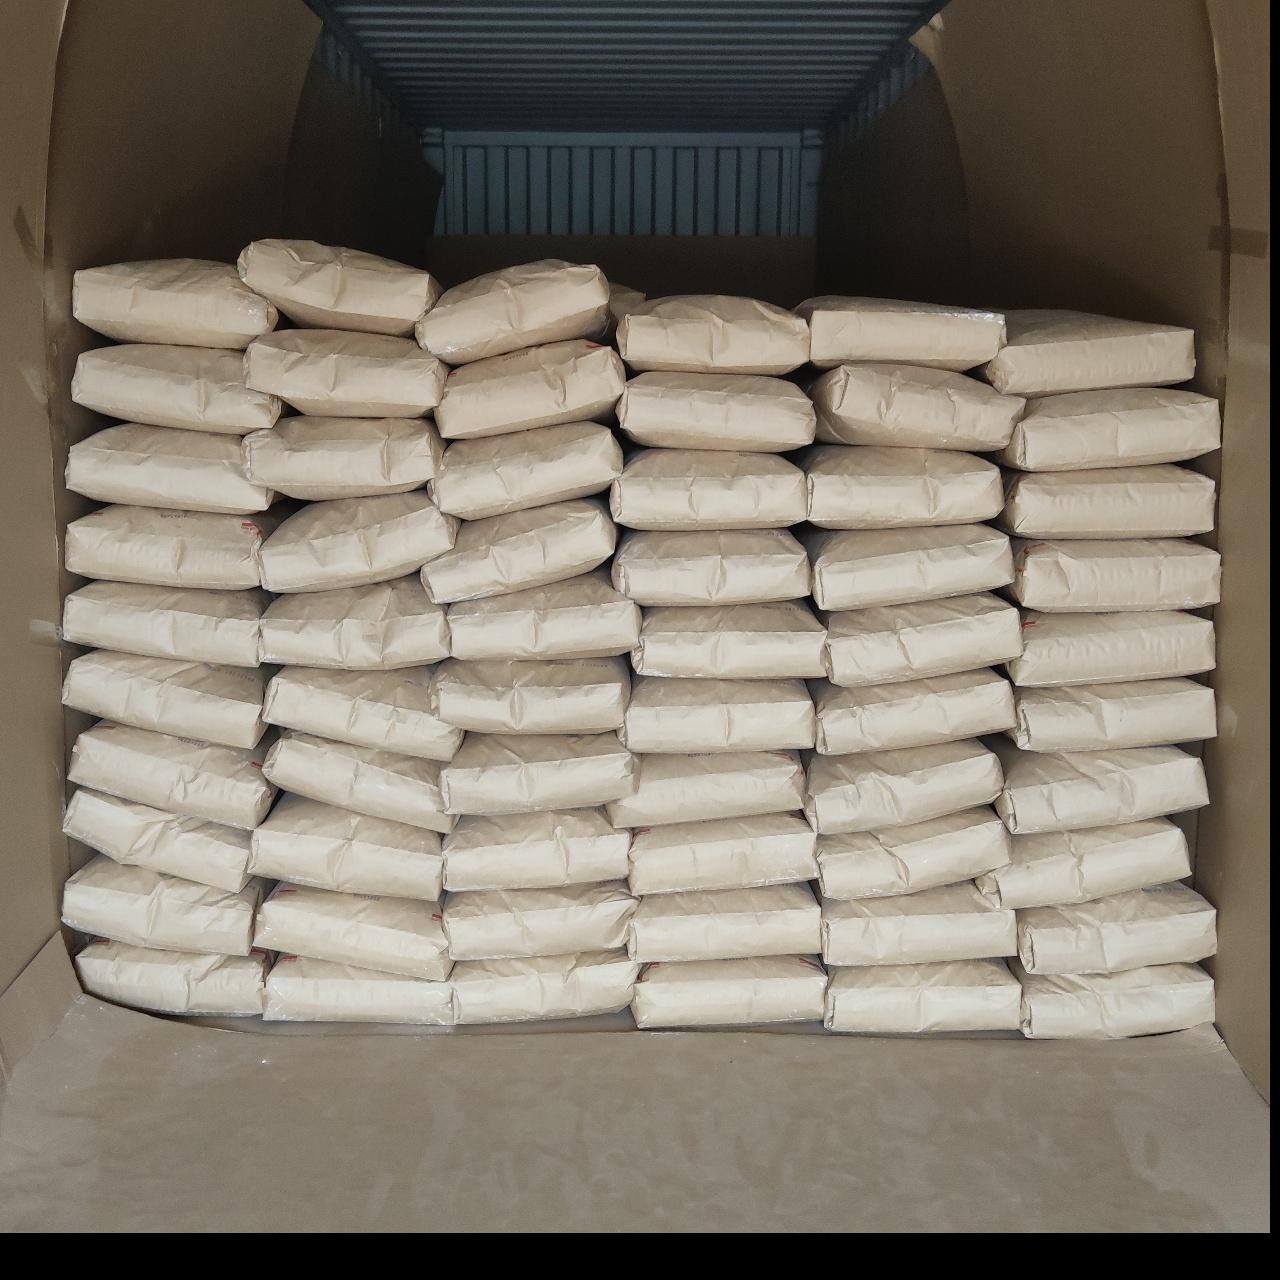sack: (70, 722, 275, 828), (424, 498, 614, 602), (64, 652, 268, 748), (418, 260, 608, 362), (252, 796, 438, 898), (263, 492, 456, 590), (264, 731, 454, 830), (978, 821, 1190, 908), (240, 240, 438, 334), (64, 858, 266, 949), (66, 790, 248, 890), (810, 365, 1022, 450), (994, 744, 1206, 830), (998, 388, 1218, 470), (74, 260, 278, 348), (436, 342, 622, 438), (433, 424, 622, 518), (74, 346, 284, 430), (980, 312, 1194, 394), (266, 668, 459, 758), (806, 740, 1000, 830), (826, 594, 1020, 685), (68, 424, 272, 510), (1017, 886, 1214, 974), (66, 506, 274, 588), (256, 886, 450, 974), (263, 576, 445, 668), (448, 568, 638, 658), (246, 331, 445, 414), (810, 524, 1012, 606), (241, 416, 442, 498), (799, 445, 1002, 526), (812, 670, 1012, 753), (818, 810, 1006, 896), (64, 583, 264, 662), (440, 734, 636, 813), (824, 881, 1014, 964), (615, 295, 809, 375), (1008, 612, 1214, 686), (618, 374, 813, 450), (629, 813, 813, 894), (1000, 467, 1214, 536), (612, 450, 806, 526), (798, 297, 1005, 368), (444, 810, 629, 888), (79, 938, 268, 1014), (632, 602, 824, 678), (610, 753, 804, 826), (434, 658, 628, 731), (1010, 680, 1214, 750), (614, 530, 808, 604), (444, 884, 636, 958), (628, 886, 821, 960), (1020, 966, 1212, 1039), (622, 678, 812, 750), (1008, 540, 1218, 606), (634, 958, 824, 1028), (826, 962, 1020, 1030), (452, 952, 638, 1022), (266, 956, 452, 1024)
